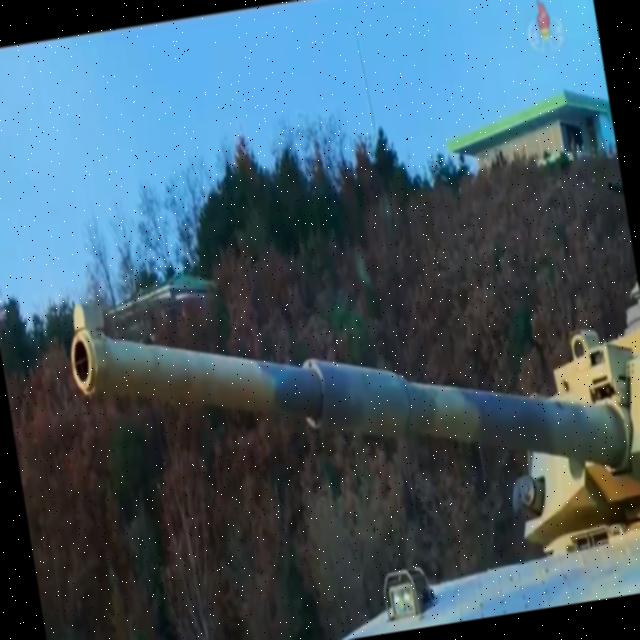north tank: (52, 234, 640, 640)
